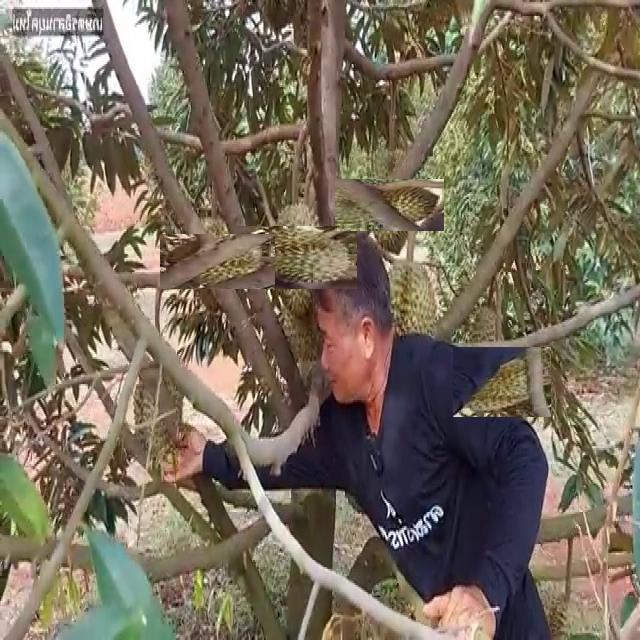durian: (249, 211, 343, 303), (377, 254, 442, 379), (131, 354, 192, 477), (174, 219, 260, 304), (459, 340, 544, 424), (350, 165, 430, 245), (456, 298, 509, 402)
